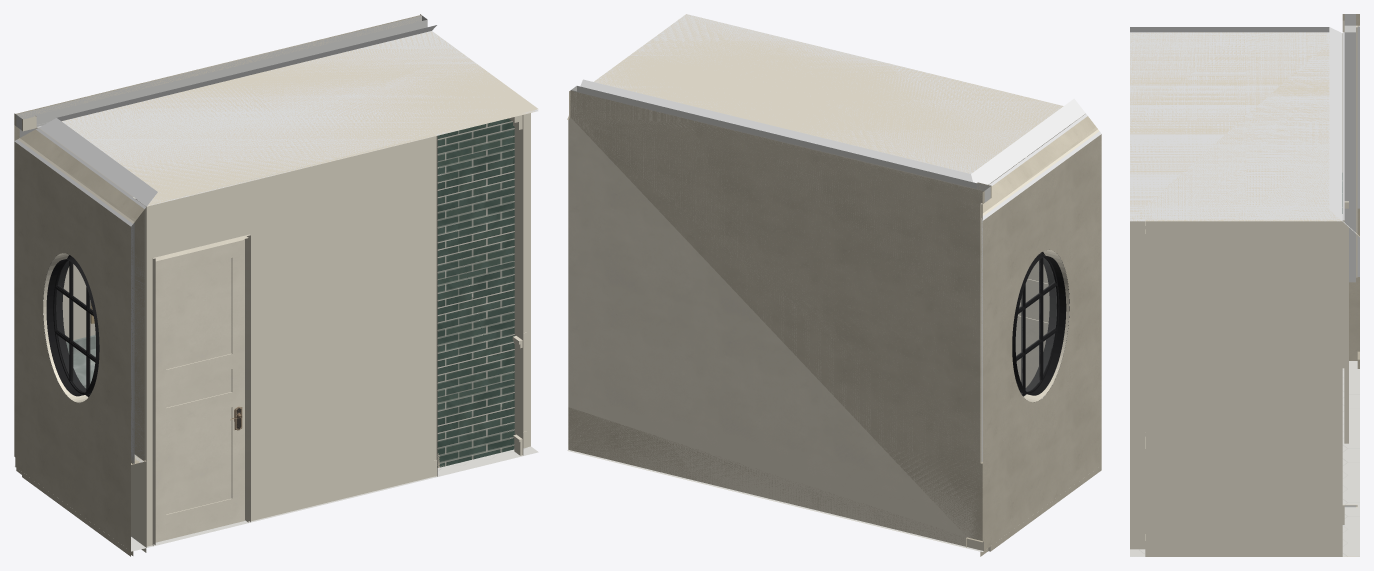
The model's file is green-bath-85d2ea9139b7.glb.
3 renders of one model, left to right at view 1: azimuth 30°, elevation 25°; view 2: azimuth 150°, elevation 25°; view 3: azimuth 270°, elevation 25°, orthographic. The views are drawn at different scales.
Parts seen in each view (by area): view 1: green-bath-b6ab44e8ab2b63f4, green-bath-e8793759323e04f0, green-bath-9d91b47435c6fb33, green-bath-235bf0030923b7b8, green-bath-5e646f76b0244fe8, green-bath-312b4ac1be39223d, green-bath-33ee0b466567e5f0, green-bath-9a6873bb27e0e1d8, green-bath-8d8280a2b3ef8b4c, green-bath-ab9cb37e14e8bf16, green-bath-3a4d9d62ecd7be1c, green-bath-39b94aca90fa4b53 (+7 smaller); view 2: green-bath-bd62734a7bc60eb7, green-bath-ca9c0b57f88e5741, green-bath-e8793759323e04f0, green-bath-312b4ac1be39223d, green-bath-9d91b47435c6fb33, green-bath-33ee0b466567e5f0, green-bath-ab9cb37e14e8bf16, green-bath-9a6873bb27e0e1d8, green-bath-af51553f3bbf098a, green-bath-39b94aca90fa4b53, green-bath-5e646f76b0244fe8, green-bath-80d7956de169033e (+1 smaller); view 3: green-bath-4fe5579be934d30a, green-bath-9d91b47435c6fb33, green-bath-e8793759323e04f0, green-bath-689020e0fc226264, green-bath-6ffca0ecbe7bb20f, green-bath-39b94aca90fa4b53, green-bath-7261ca91c9d343ad, green-bath-9a6873bb27e0e1d8, green-bath-82fe871d7bda5383, green-bath-312b4ac1be39223d, green-bath-6852ef8a5e690845, green-bath-bd62734a7bc60eb7 (+1 smaller).
Boxes of the visible parts, box(x1,y1,x2,y2) form: green-bath-b6ab44e8ab2b63f4: box(138, 136, 437, 547); green-bath-e8793759323e04f0: box(42, 25, 538, 204); green-bath-9d91b47435c6fb33: box(39, 31, 537, 206); green-bath-235bf0030923b7b8: box(437, 118, 513, 467); green-bath-5e646f76b0244fe8: box(155, 239, 244, 542); green-bath-312b4ac1be39223d: box(14, 125, 133, 464); green-bath-33ee0b466567e5f0: box(22, 386, 146, 556); green-bath-9a6873bb27e0e1d8: box(16, 15, 427, 471); green-bath-8d8280a2b3ef8b4c: box(515, 109, 538, 455); green-bath-ab9cb37e14e8bf16: box(43, 254, 99, 397); green-bath-3a4d9d62ecd7be1c: box(35, 127, 146, 461); green-bath-39b94aca90fa4b53: box(19, 128, 144, 463); green-bath-bd62734a7bc60eb7: box(567, 91, 983, 547); green-bath-ca9c0b57f88e5741: box(568, 90, 984, 550); green-bath-e8793759323e04f0: box(580, 14, 1083, 183); green-bath-312b4ac1be39223d: box(981, 131, 1101, 463); green-bath-9d91b47435c6fb33: box(594, 14, 1085, 184); green-bath-33ee0b466567e5f0: box(988, 377, 1101, 551); green-bath-ab9cb37e14e8bf16: box(1012, 252, 1069, 397); green-bath-9a6873bb27e0e1d8: box(571, 86, 990, 550); green-bath-af51553f3bbf098a: box(1016, 253, 1056, 393); green-bath-39b94aca90fa4b53: box(982, 116, 1097, 213); green-bath-5e646f76b0244fe8: box(988, 163, 1049, 387); green-bath-80d7956de169033e: box(1012, 249, 1069, 402); green-bath-4fe5579be934d30a: box(1145, 214, 1342, 556); green-bath-9d91b47435c6fb33: box(1130, 32, 1342, 221); green-bath-e8793759323e04f0: box(1130, 27, 1340, 219); green-bath-689020e0fc226264: box(1130, 221, 1145, 549); green-bath-6ffca0ecbe7bb20f: box(1130, 361, 1359, 556); green-bath-39b94aca90fa4b53: box(1344, 28, 1355, 282); green-bath-7261ca91c9d343ad: box(1344, 201, 1348, 443); green-bath-9a6873bb27e0e1d8: box(1344, 14, 1355, 556); green-bath-82fe871d7bda5383: box(1342, 14, 1344, 556); green-bath-312b4ac1be39223d: box(1357, 26, 1359, 276); green-bath-6852ef8a5e690845: box(1356, 27, 1357, 277); green-bath-bd62734a7bc60eb7: box(1357, 14, 1359, 368).
Bounding box in the file's own units: 3.62 × 3.04 × 1.8.
33 materials, 6 textured.
